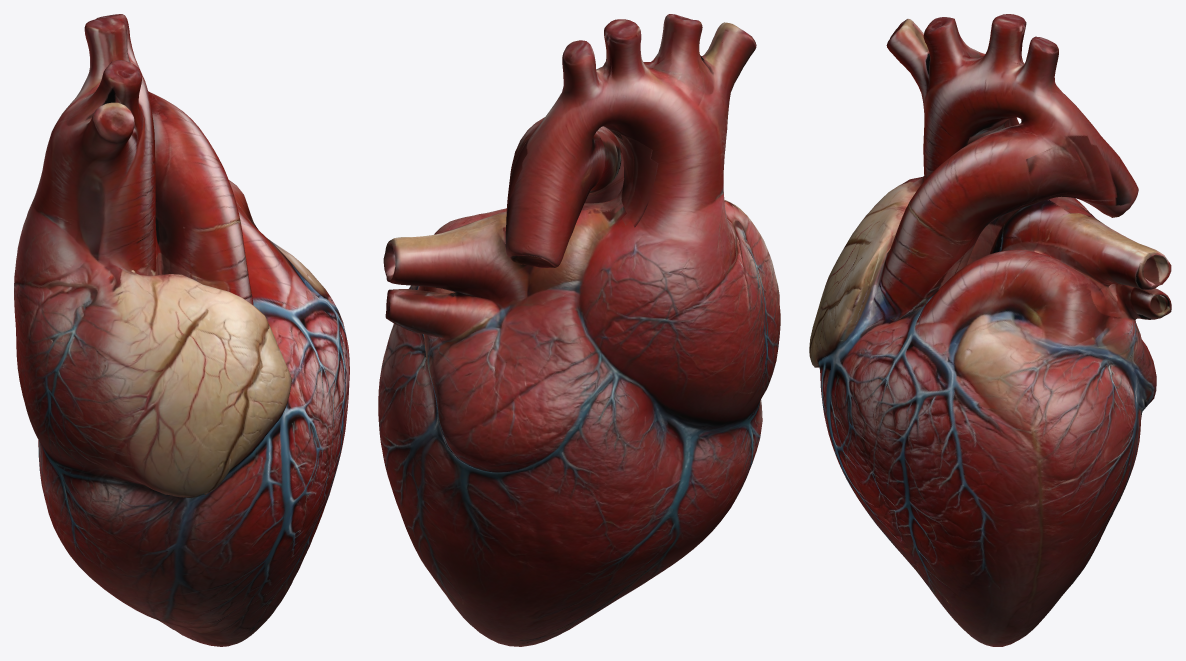
Rendered from stylizedhumanheart.glb.
The picture shows the model from 3 angles, left to right: view 1: azimuth 30°, elevation 25°; view 2: azimuth 150°, elevation 25°; view 3: azimuth 270°, elevation 25°; orthographic projection. The views are drawn at different scales.
Visible parts, largest first — view 1: Stylized Human Heart_0; view 2: Stylized Human Heart_0; view 3: Stylized Human Heart_0.
Part boxes in pixels (<box>): Stylized Human Heart_0: <box>14,14,349,646</box>; Stylized Human Heart_0: <box>378,14,780,646</box>; Stylized Human Heart_0: <box>809,14,1171,646</box>.
Bounding box in the file's own units: 0.043 × 0.0805 × 0.0459.
Materials: 1 (1 with a texture image).
